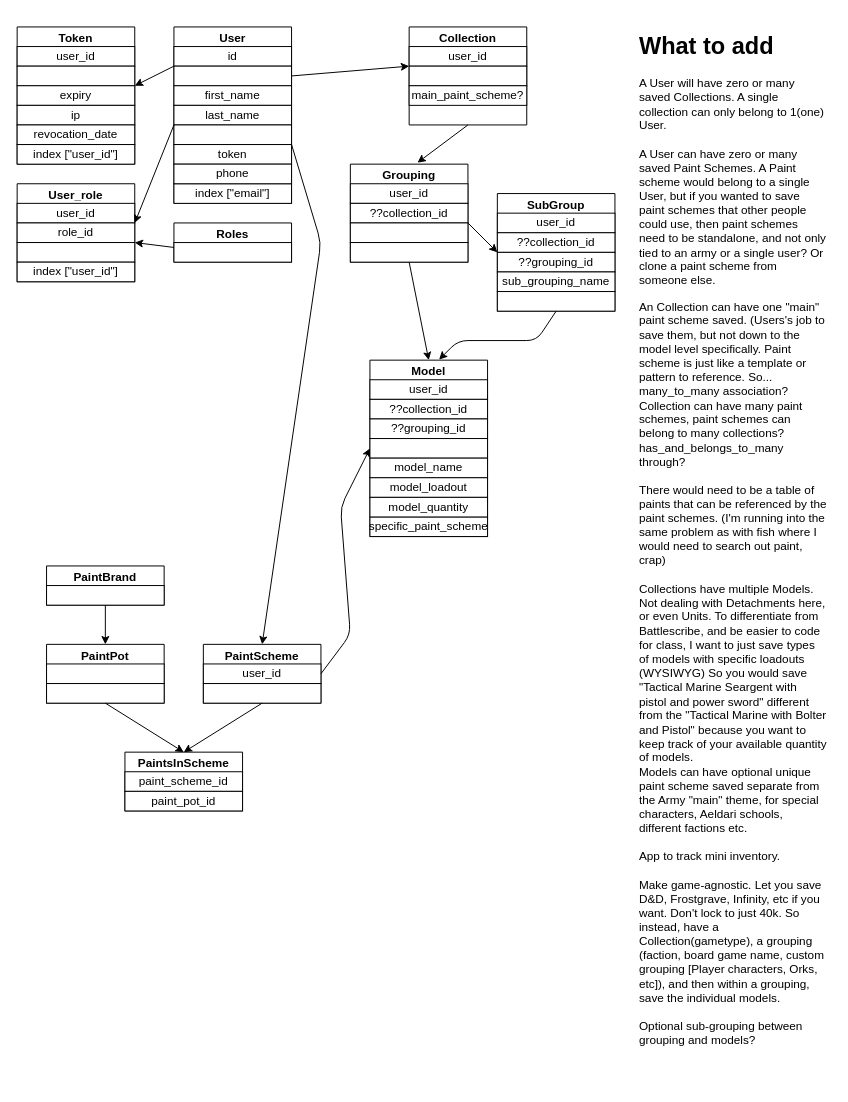
The diagram is 848 pixels wide and 1102 high, and some of its shapes have lost their labels. The centre of each missing label's shape, as x and y in pixels:
??sub_grouping_id?: point 428,448
brand_name: point 105,595
collection_name: point 467,75
email: point 232,75
grouping_name: point 408,232
index ["role_id"]: point 75,252
paint_brand_id: point 105,673
paint_name: point 105,693
password_digest: point 232,134
scheme_description: point 261,693
slug: point 232,252
sub-paint_schem?: point 555,301
sub_paint_scheme?: point 408,252
value: point 75,75
